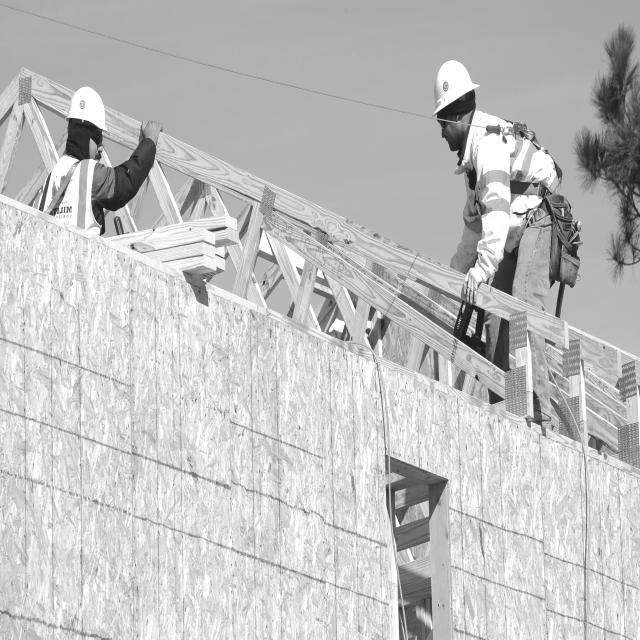face_nomask: (438, 103, 470, 156)
hand_glove: (456, 259, 493, 315)
hand_noglove: (136, 116, 170, 152)
head_helmet: (431, 58, 480, 115), (66, 86, 114, 133)
person: (403, 60, 585, 381), (34, 86, 135, 228)
vest: (452, 119, 561, 293), (44, 158, 101, 220)
